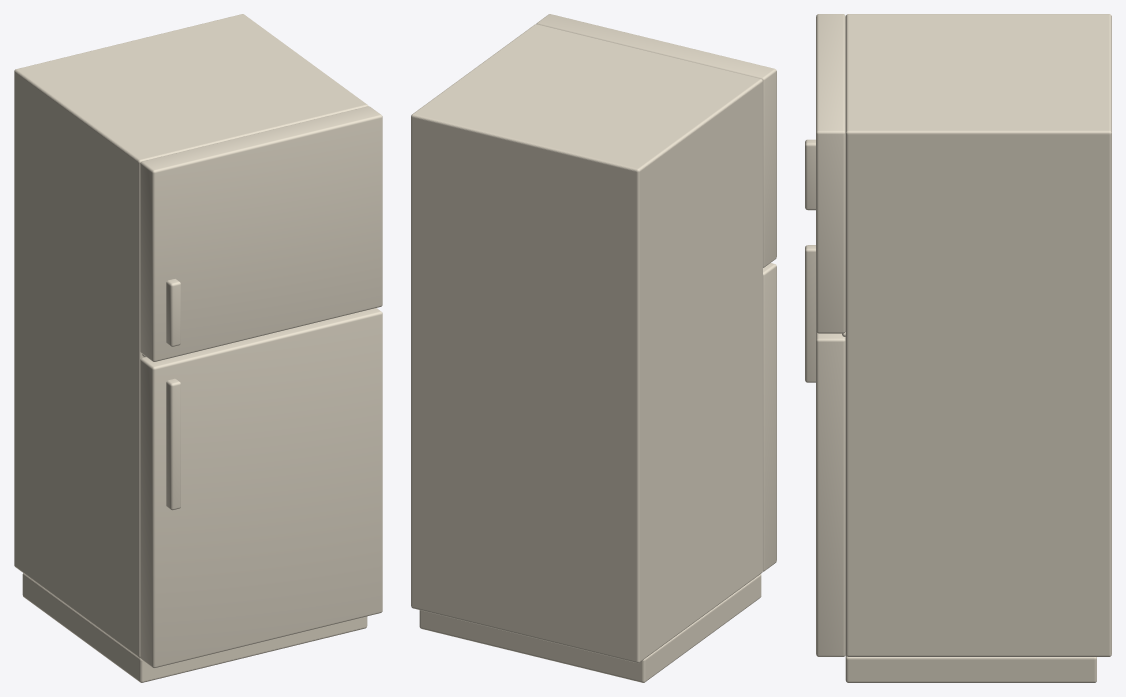
The model's file is fridge_low.fbx.
The picture shows the model from 3 angles, left to right: view 1: azimuth 30°, elevation 25°; view 2: azimuth 150°, elevation 25°; view 3: azimuth 270°, elevation 25°; orthographic projection. The views are drawn at different scales.
Visible parts, largest first — view 1: Freezer_Door_Top; view 2: Freezer_Door_Top; view 3: Freezer_Door_Top.
Part boxes in pixels (box(x1,y1,x2,y2)): Freezer_Door_Top: box(14, 14, 382, 682); Freezer_Door_Top: box(411, 14, 776, 682); Freezer_Door_Top: box(805, 14, 1111, 682).
Bounding box in the file's own units: 0.76 × 1.65 × 0.83.
